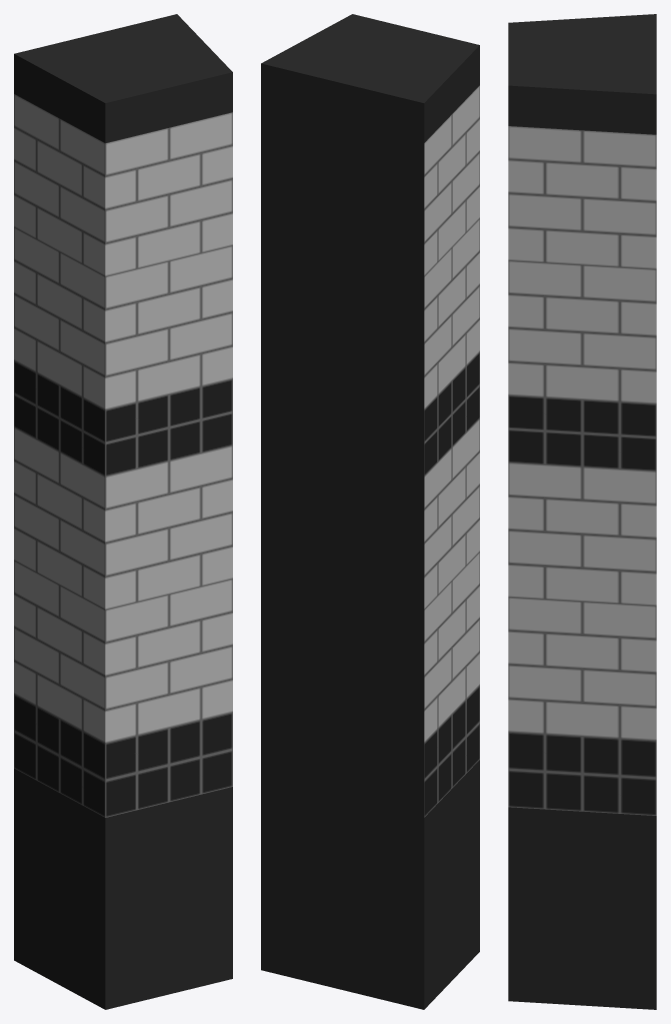
File: SW_ENV_StationTunnel_WallEnd.fbx
The picture shows the model from 3 angles, left to right: view 1: azimuth 30°, elevation 25°; view 2: azimuth 150°, elevation 25°; view 3: azimuth 270°, elevation 25°; orthographic projection.
Visible parts, largest first — view 1: SW_ENV_StationTunnel_WallEnd; view 2: SW_ENV_StationTunnel_WallEnd; view 3: SW_ENV_StationTunnel_WallEnd.
Part boxes in pixels (bbox=[...]): SW_ENV_StationTunnel_WallEnd: bbox=[14, 14, 232, 1009]; SW_ENV_StationTunnel_WallEnd: bbox=[261, 14, 479, 1009]; SW_ENV_StationTunnel_WallEnd: bbox=[508, 14, 656, 1009].
Size of the model in its own units: 80 by 425 by 62.5.
